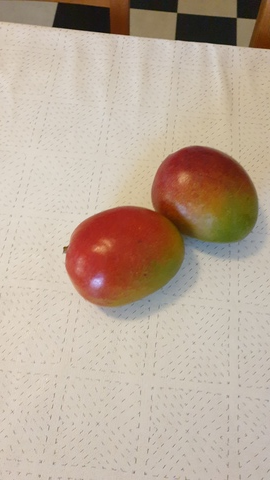Mango: (65, 206, 185, 306)
